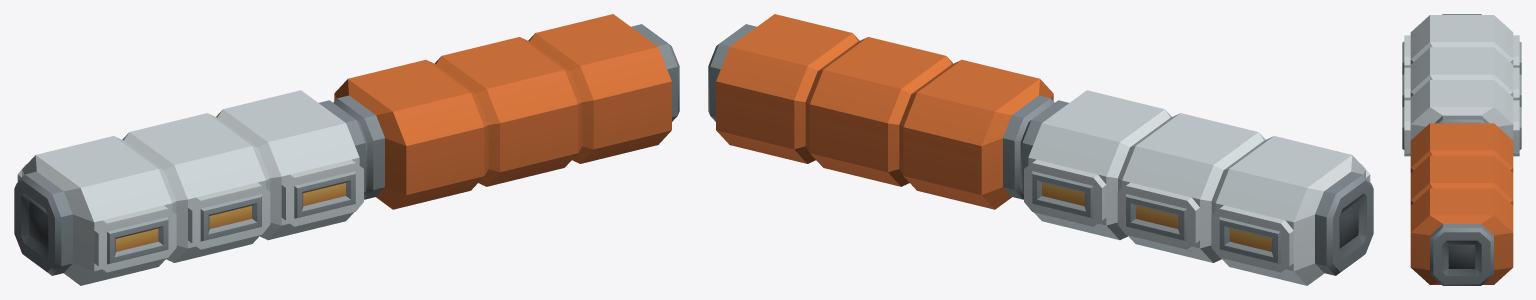
File: agility-tunnel.glb
The picture shows the model from 3 angles, left to right: view 1: azimuth 30°, elevation 25°; view 2: azimuth 150°, elevation 25°; view 3: azimuth 270°, elevation 25°; orthographic projection. The views are drawn at different scales.
Parts seen in each view (by area): view 1: tunnel_straight_A; view 2: tunnel_straight_A; view 3: tunnel_straight_A.
Part boxes in pixels (bbox=[...]): tunnel_straight_A: bbox=[14, 14, 679, 285]; tunnel_straight_A: bbox=[708, 14, 1373, 285]; tunnel_straight_A: bbox=[1402, 14, 1521, 285].
Bounding box in the file's own units: 5 × 0.7501 × 1.16.
Materials: 1 (1 with a texture image).
